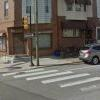Crosswalk: (15, 54, 93, 100)
